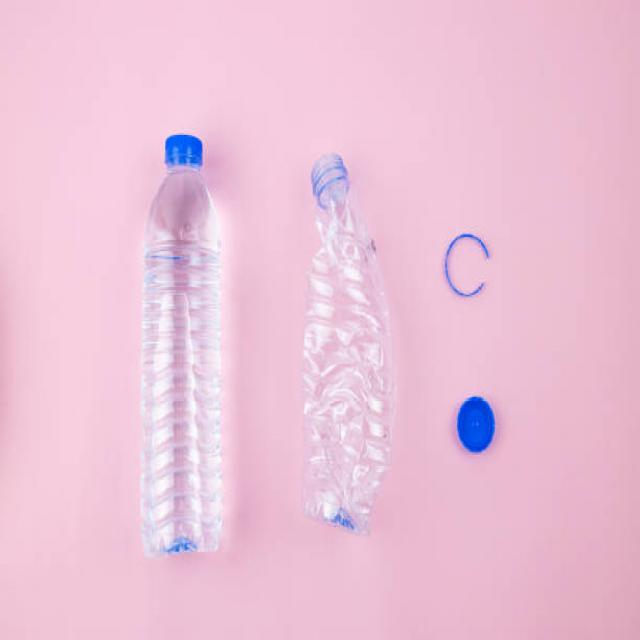plastic: (304, 159, 392, 533), (149, 130, 226, 552), (456, 399, 496, 451)
